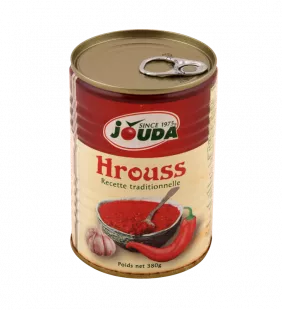JOUDA: (60, 20, 228, 284)
